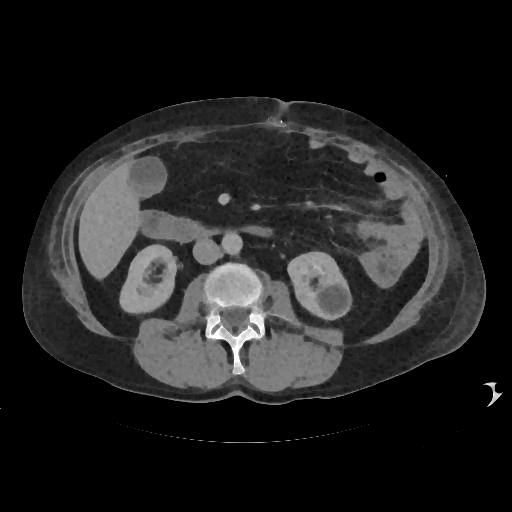Lesion: (314, 283, 353, 318)
